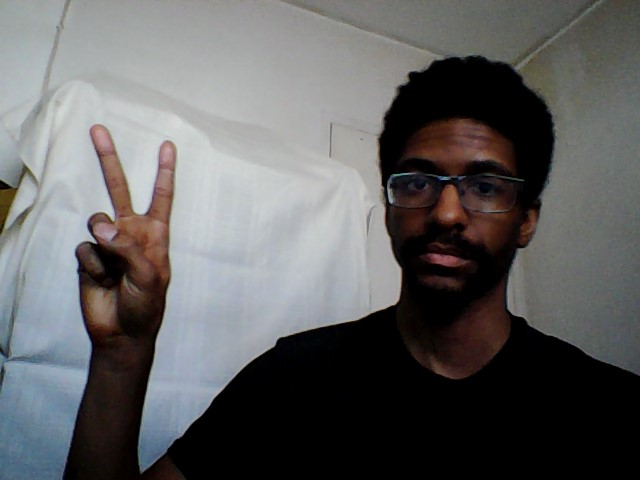v: (68, 118, 182, 342)
